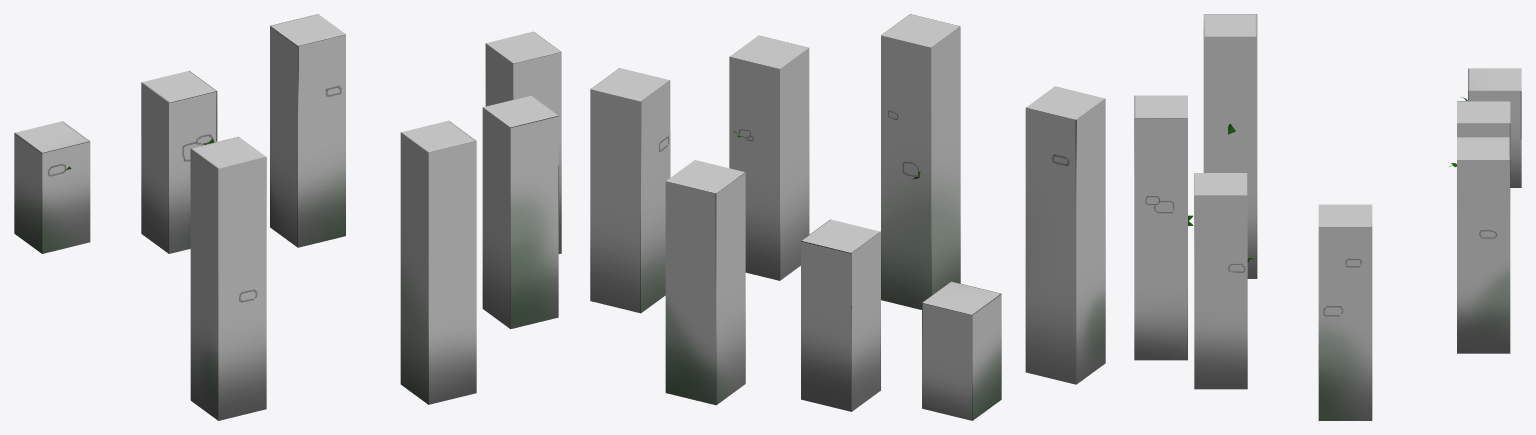
The model's file is Buildings.fbx.
3 renders of one model, left to right at view 1: azimuth 30°, elevation 25°; view 2: azimuth 150°, elevation 25°; view 3: azimuth 270°, elevation 25°, orthographic. The views are drawn at different scales.
Parts seen in each view (by area): view 1: unityexport; view 2: unityexport; view 3: unityexport.
Part boxes in pixels (x1=…): unityexport: x1=14, y1=14, x2=561, y2=420; unityexport: x1=590, y1=14, x2=1105, y2=420; unityexport: x1=1134, y1=14, x2=1521, y2=420.
Size of the model in its own units: 4582 by 2500 by 3620.
Materials: 2 (1 with a texture image).
